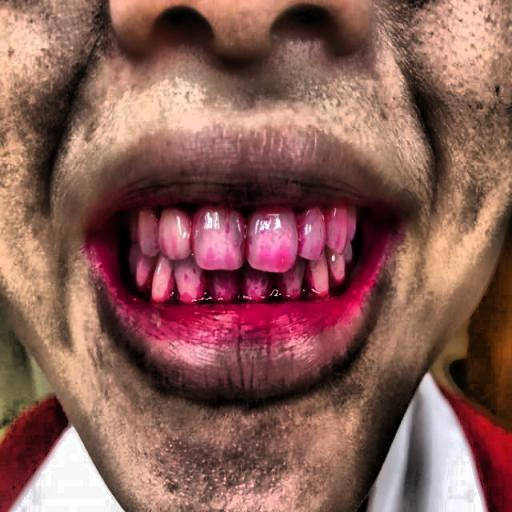Plaque: (123, 182, 372, 312)
